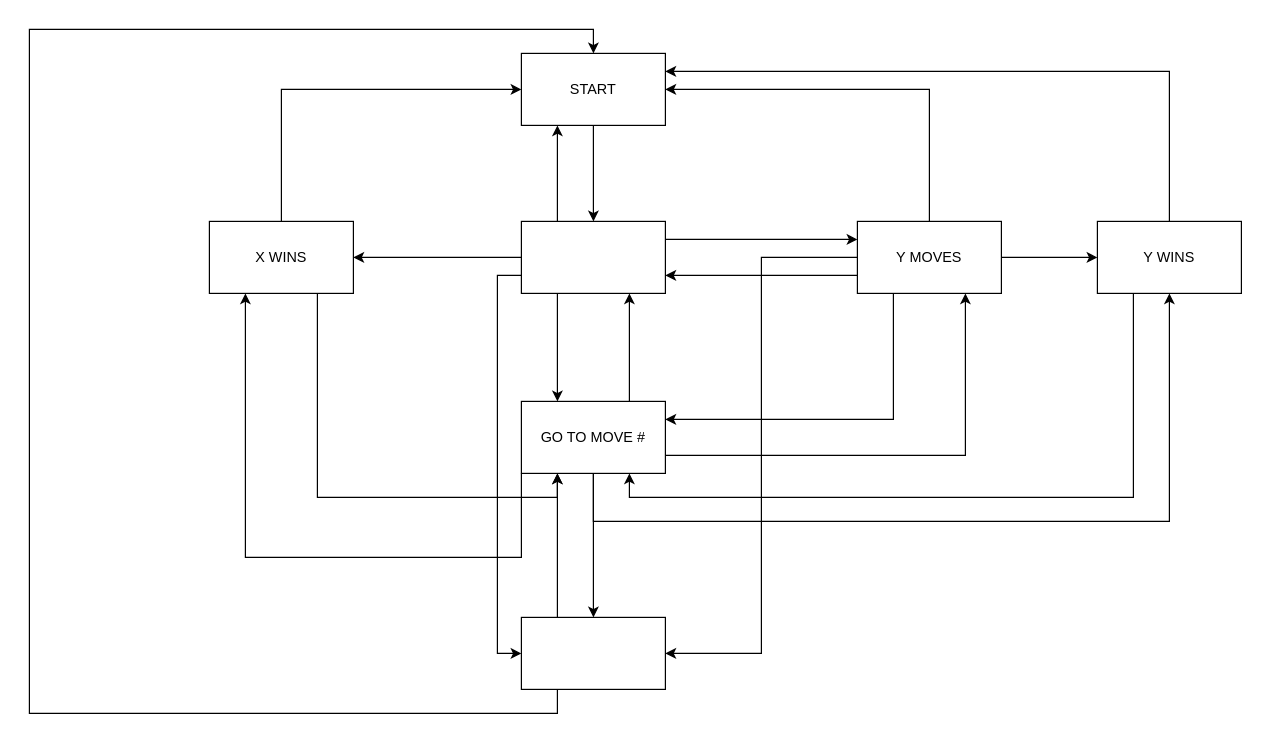
Image size: 1262x744. Some labels were removed from this diagram. The box of each missing label's shape, as (x1, y1, x2, y2) in pixels:
DRAW: (520, 616, 665, 689)
X MOVES: (520, 220, 665, 293)
